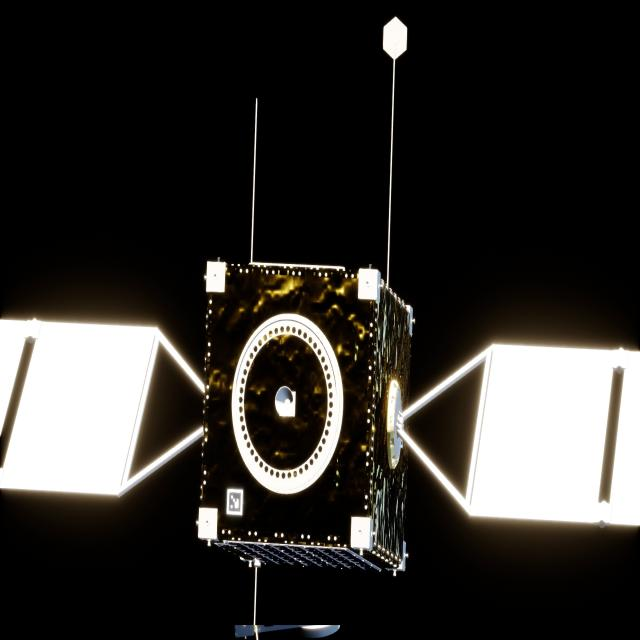satellite: (0, 261, 640, 573)
